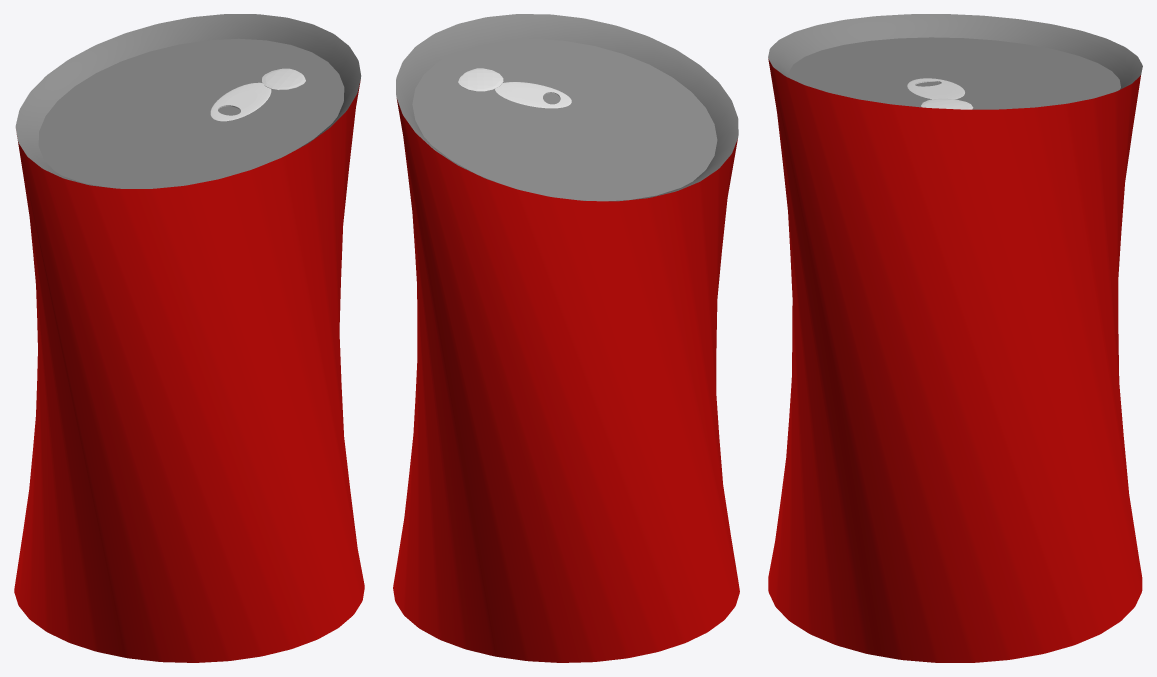
File: can 1.fbx
3 renders of one model, left to right at view 1: azimuth 30°, elevation 25°; view 2: azimuth 150°, elevation 25°; view 3: azimuth 270°, elevation 25°, orthographic. The views are drawn at different scales.
Parts seen in each view (by area): view 1: Cylinder, Sphere, Cube; view 2: Cylinder, Sphere, Cube; view 3: Cylinder, Sphere.
Part boxes in pixels (x1,y1,x2,y2): Cylinder: (14, 14, 364, 662); Sphere: (210, 82, 271, 121); Cube: (262, 68, 305, 90); Cylinder: (393, 14, 739, 662); Sphere: (495, 82, 571, 108); Cube: (458, 68, 503, 91); Cylinder: (768, 14, 1142, 662); Sphere: (907, 78, 964, 99).
Size of the model in its own units: 198 by 323 by 199.
